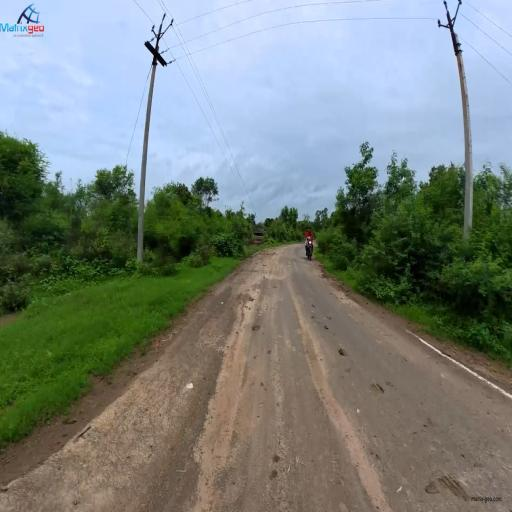ravelling: (298, 312, 386, 496), (218, 338, 273, 471)
